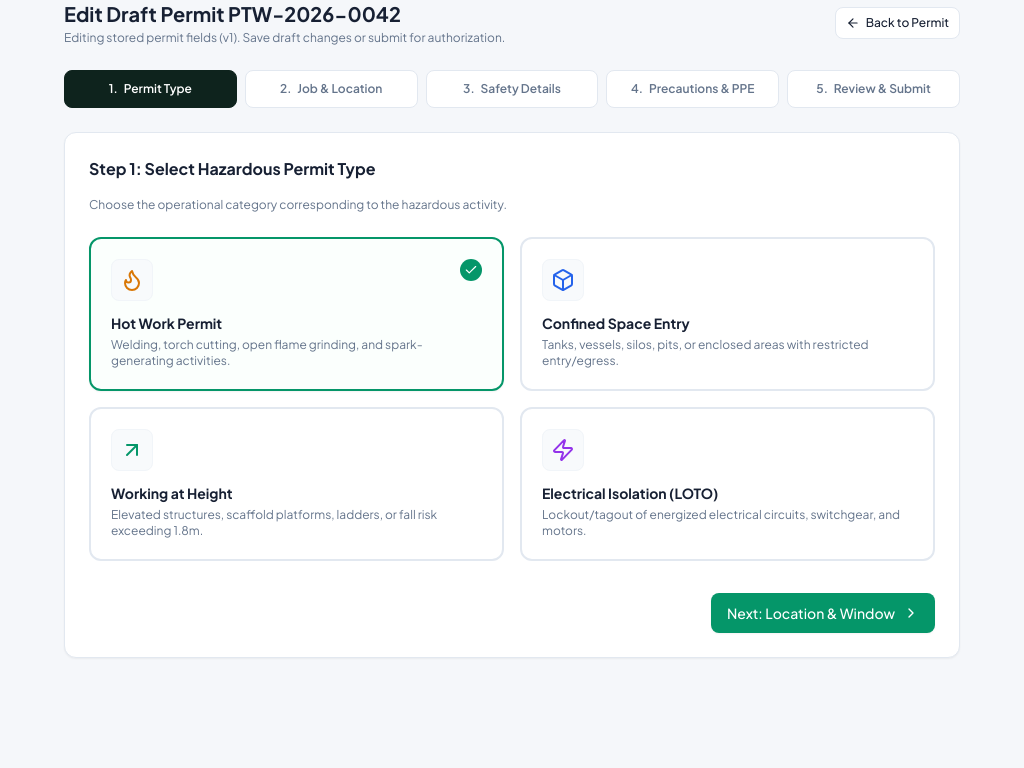
Scenario: Bug B UI Regression: EditPermitPage full draft hydration, version refresh, & step-level submit errors › hydrates stored permit fields, refreshes optimistic version across repeated saves, and offers both Save and Submit for owner DRAFT
The width and height of the screenshot is (1024, 768).
Later steps or results of the test are not shown.
Check: the heading "Edit Draft Permit PTW-2026-0042" is shown, box [64,1,401,26]
# verify hydrated work description, contractor, location cascade & dates
Click the button "Next: Location & Window".
click(823, 613)  # box [711,593,935,633]
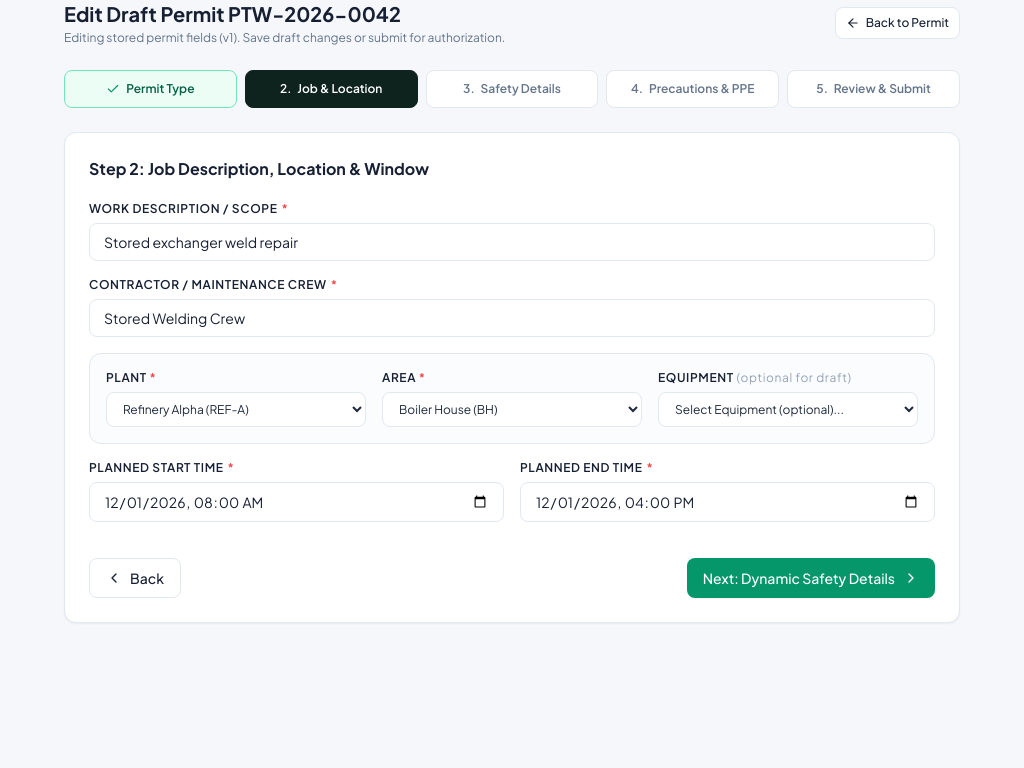
Check: the field labelled "Work Description / Scope*" holds "Stored exchanger weld repair"
Check: the field labelled "Contractor / Maintenance Crew*" holds "Stored Welding Crew", box [89,299,935,337]
Check: the dropdown labelled "Plant *" shows "Refinery Alpha (REF-A)", box [106,392,366,427]
# Edit description and select equipment
Replace the text in the field labelled "Work Description / Scope*" with "Updated Save 1" at point(512, 242), box [89,223,935,261]
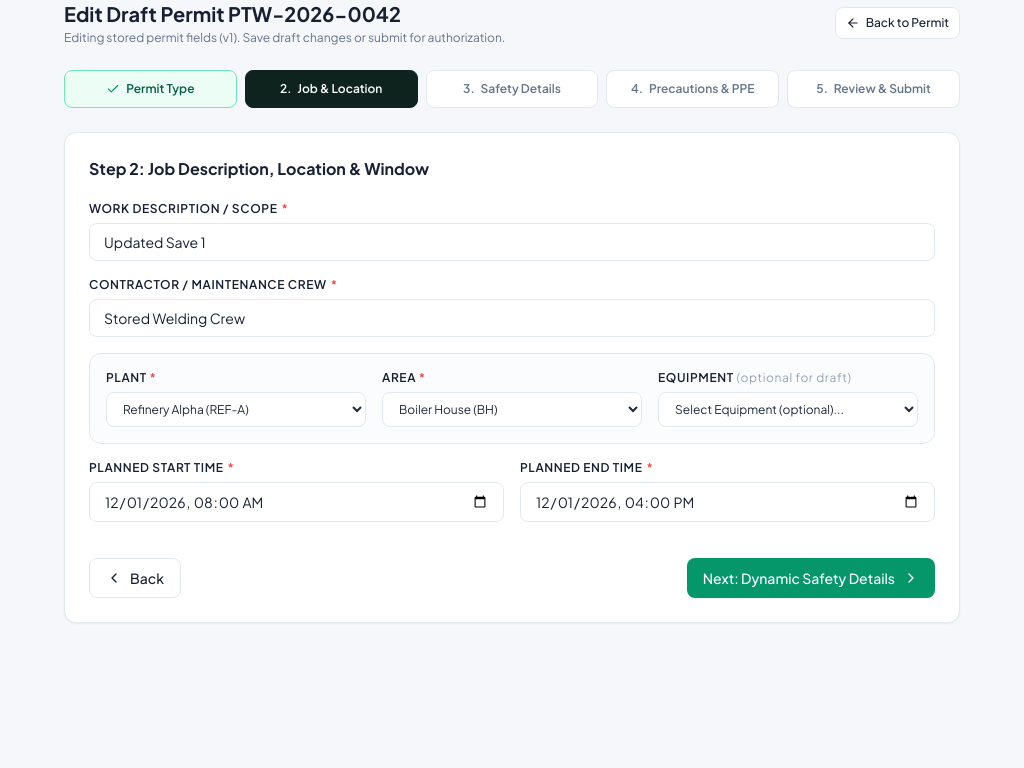
Select "Primary Boiler (B-101)" in the dropdown labelled "Equipment (optional for draft)" at point(788, 410), box [658,392,918,427]
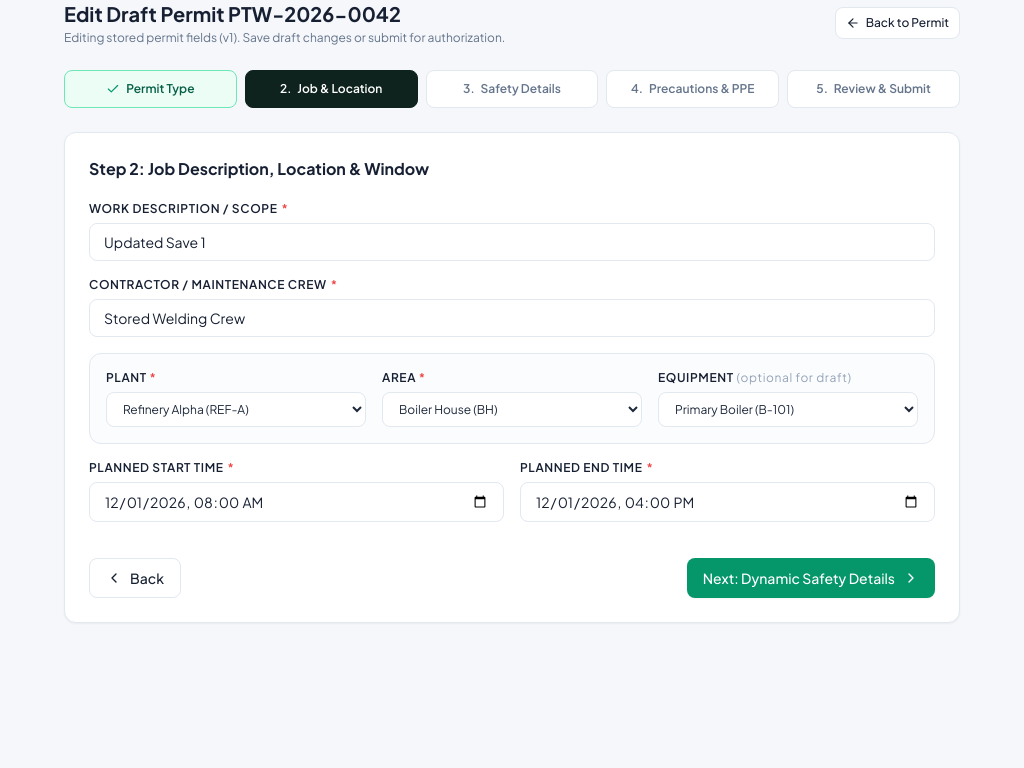
# verify stored dynamic details hydrated
Click the button "Next: Dynamic Safety Details".
click(811, 578)  # box [687,558,935,598]
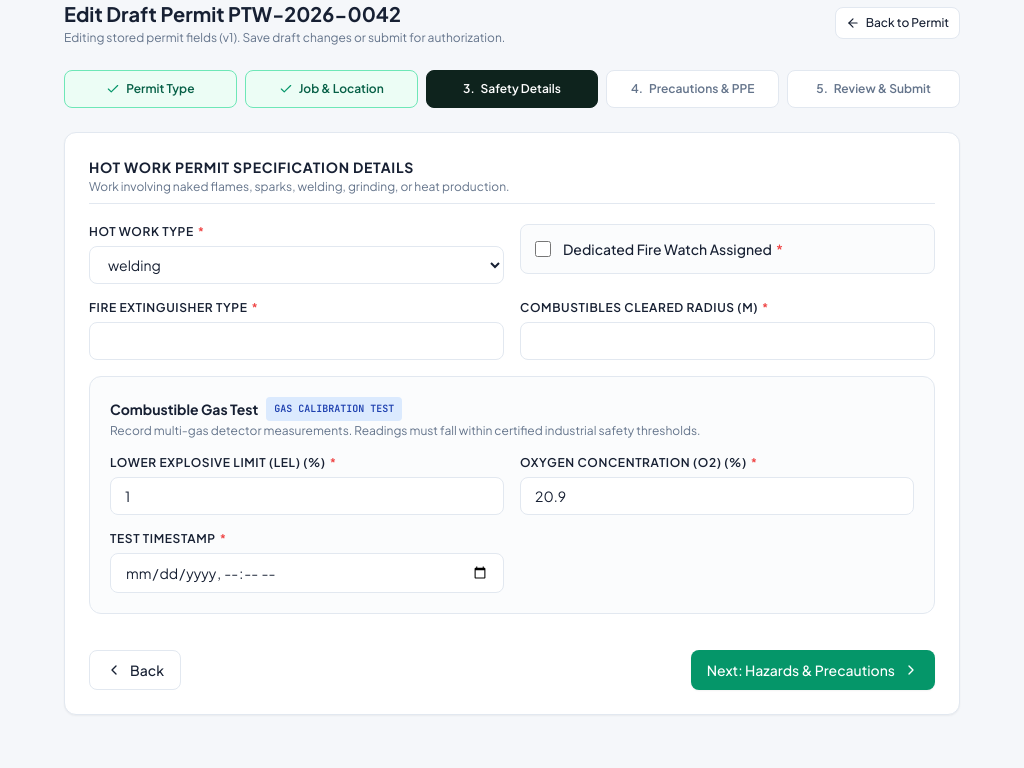
Check: the dropdown labelled "Hot Work Type*" shows "welding", box [89,246,504,284]
# verify stored hazards, PPE, precautions hydrated
Click the button "Next: Hazards & Precautions".
click(813, 670)  # box [691,650,935,690]
(page scrolled)
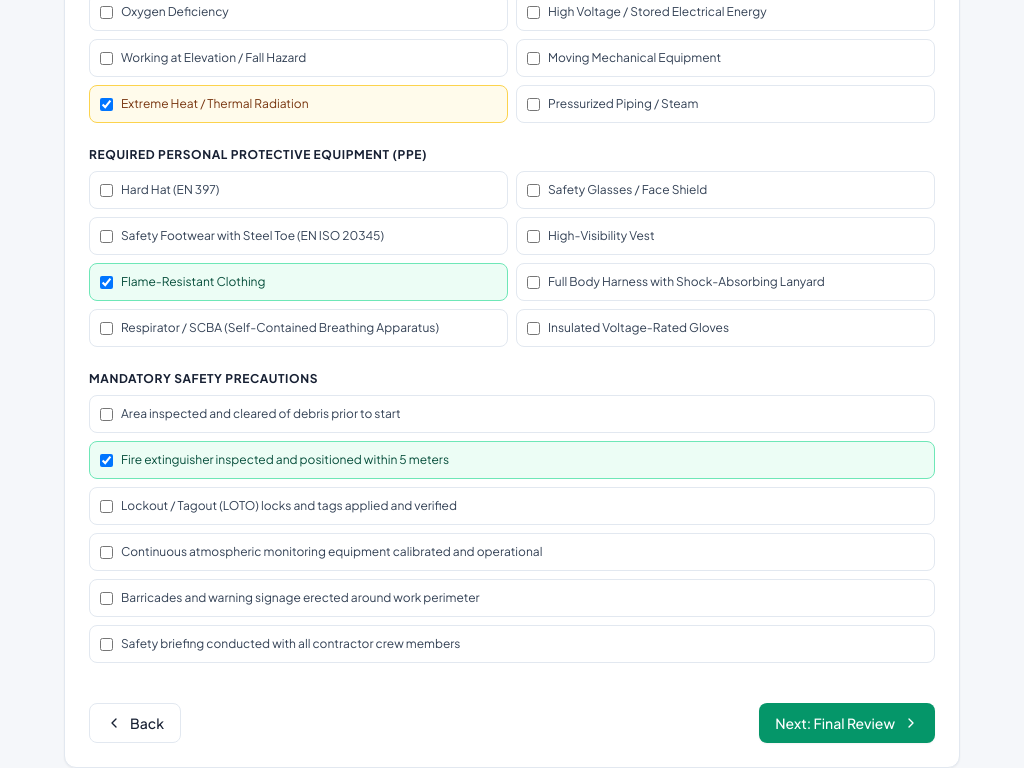
Click the button "Next: Final Review".
click(847, 723)  # box [759,703,935,743]
(page scrolled)
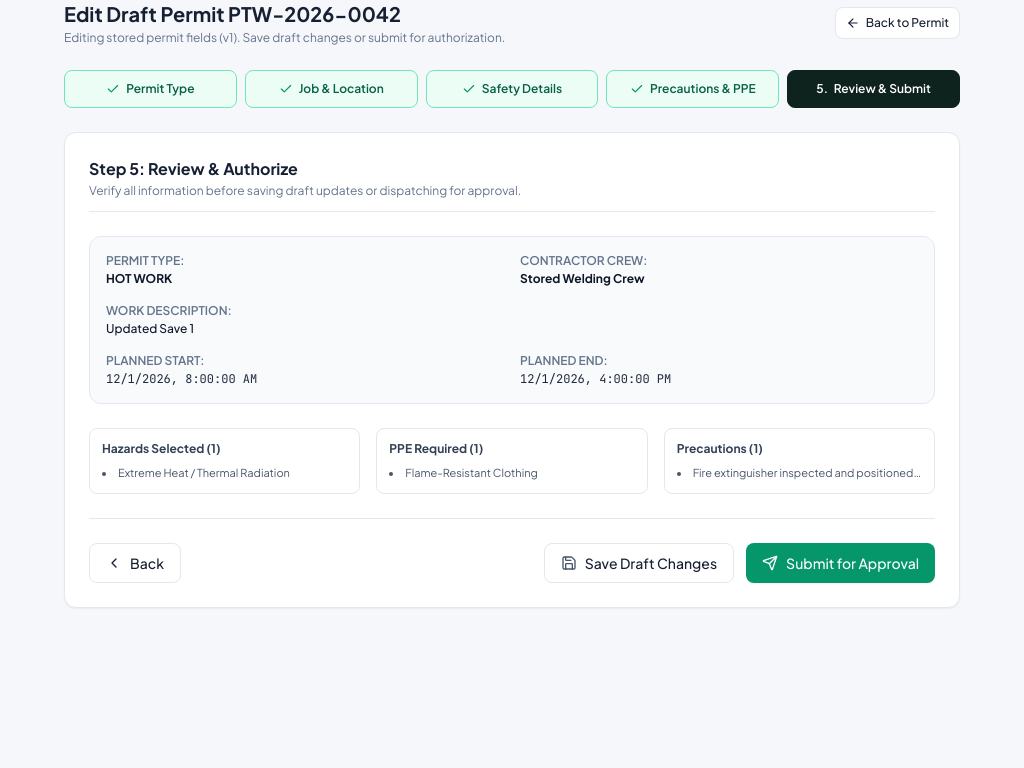
Check: the button "Save Draft Changes" is shown, box [544,543,734,583]
Check: the button "Submit for Approval" is shown, box [746,543,935,583]
